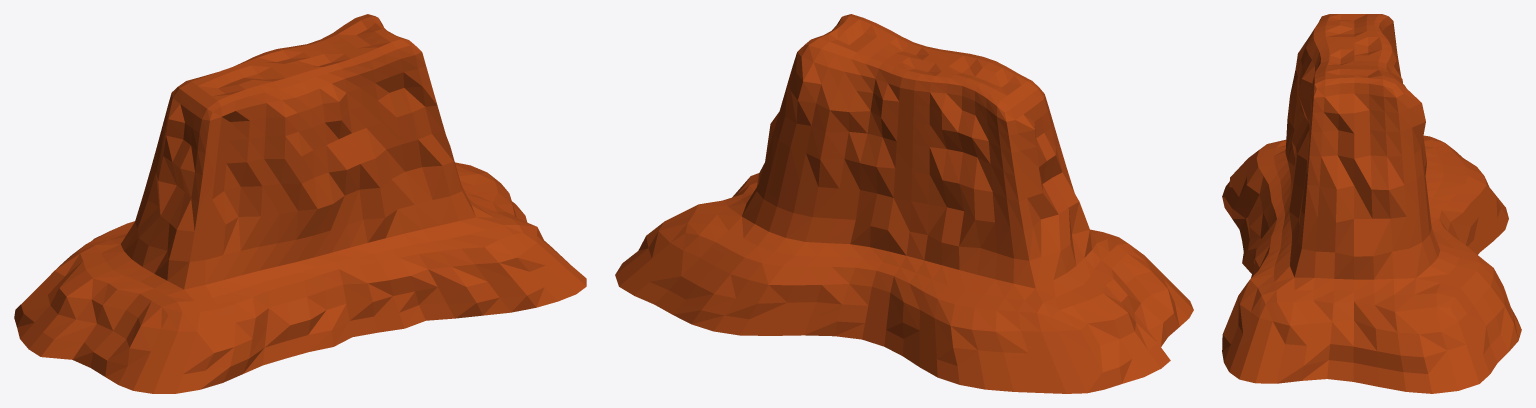
File: Plateau_desert_002.glb
3 renders of one model, left to right at view 1: azimuth 30°, elevation 25°; view 2: azimuth 150°, elevation 25°; view 3: azimuth 270°, elevation 25°, orthographic. The views are drawn at different scales.
Visible parts, largest first — view 1: Plateau_desert_002; view 2: Plateau_desert_002; view 3: Plateau_desert_002.
Boxes of the visible parts, x1,y1,x2,y2 form: Plateau_desert_002: [14, 14, 586, 393]; Plateau_desert_002: [615, 14, 1193, 393]; Plateau_desert_002: [1222, 14, 1521, 393].
Size of the model in its own units: 49.21 by 22.73 by 26.24.
